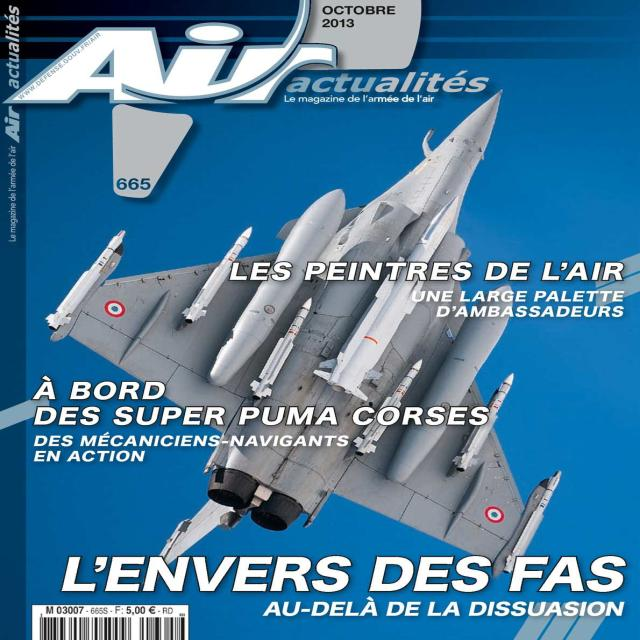MIL_Plane: (43, 83, 561, 580)
